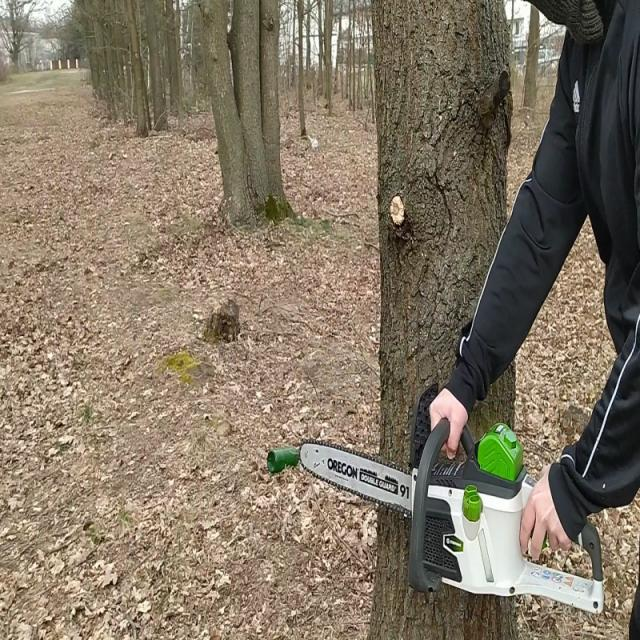Chainsaw: (292, 408, 613, 619)
